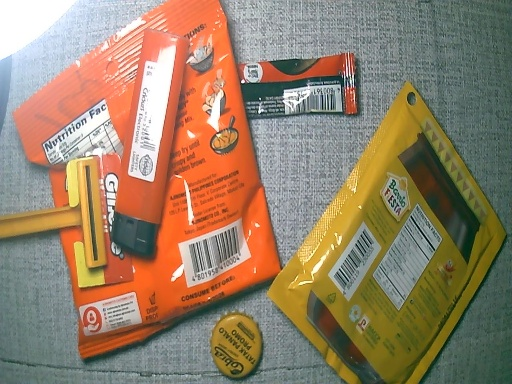metal: (211, 312, 265, 384)
plastic: (25, 2, 278, 356), (267, 83, 505, 384), (238, 51, 360, 127)
trash: (109, 30, 191, 252), (1, 150, 110, 278)
